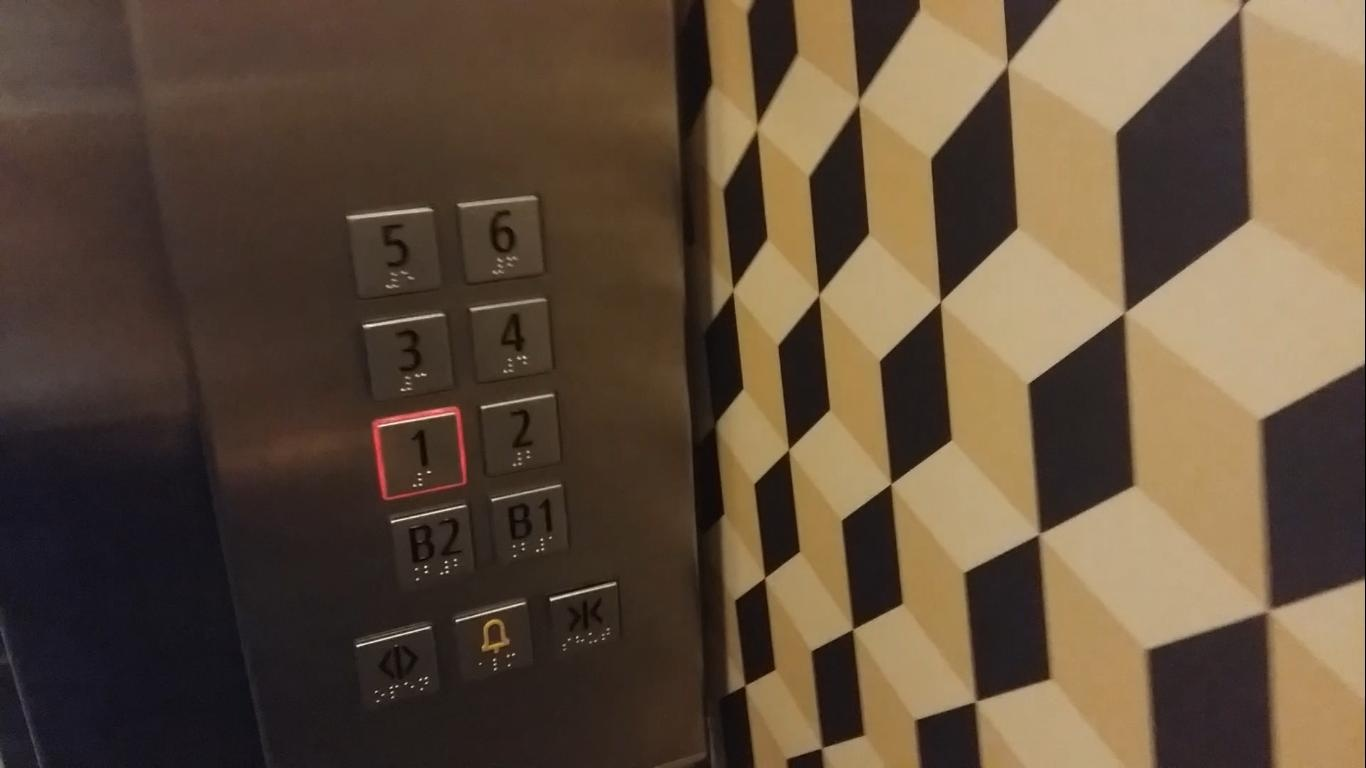1: (370, 409, 468, 502)
2: (472, 394, 559, 478)
3: (359, 315, 456, 402)
4: (464, 299, 554, 379)
5: (345, 207, 444, 299)
6: (456, 195, 545, 283)
B1: (490, 484, 570, 565)
B2: (385, 504, 477, 594)
alarm: (455, 596, 534, 689)
close: (547, 579, 620, 670)
open: (355, 621, 441, 721)
